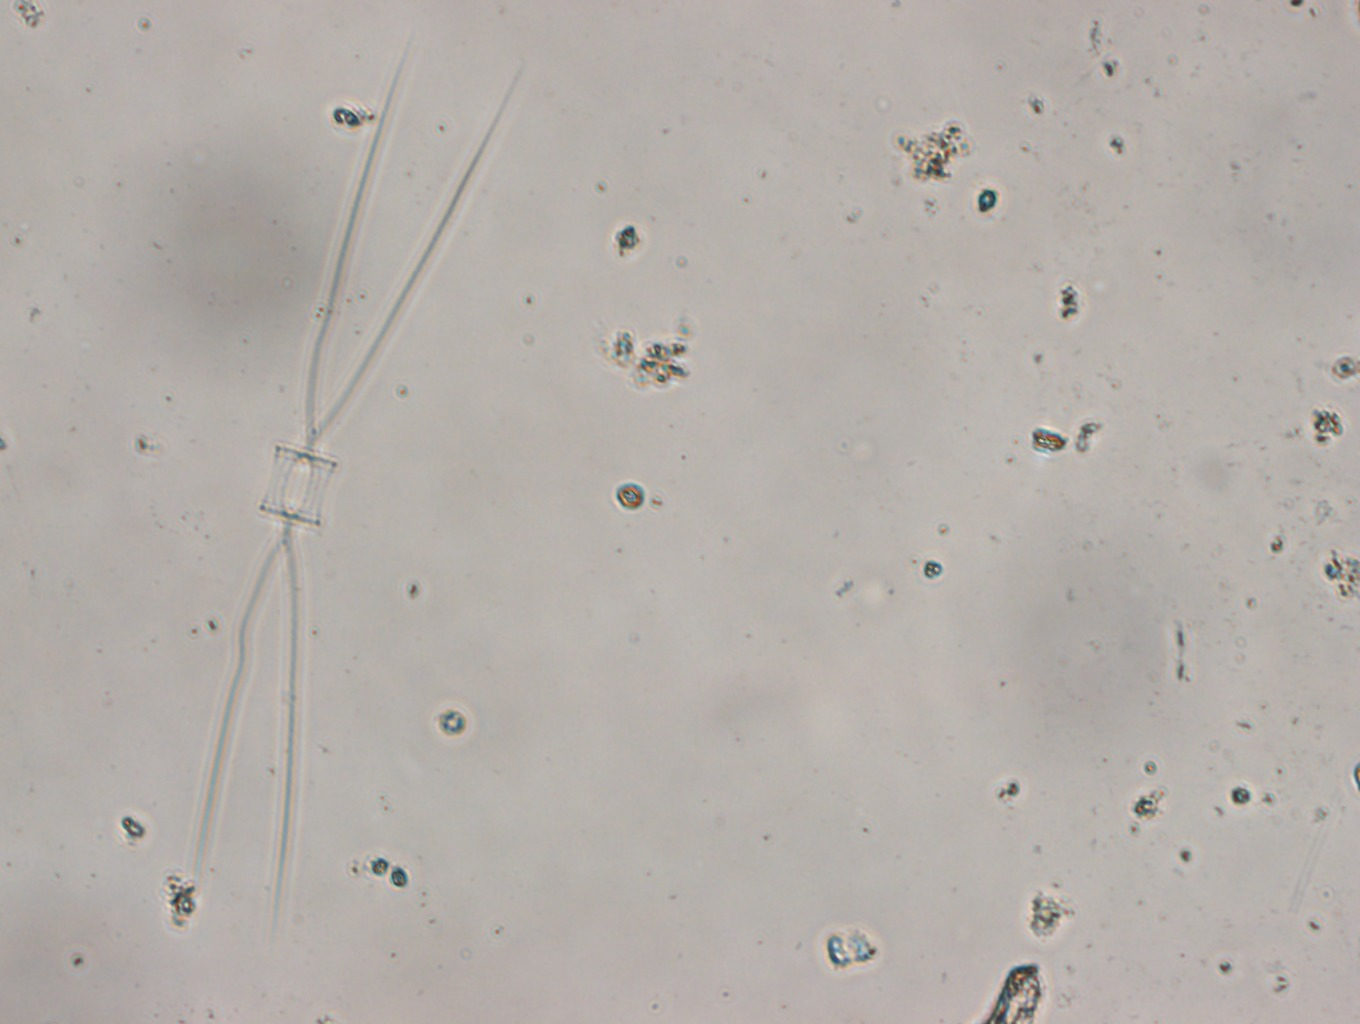chaetoceros: (180, 51, 524, 899)
